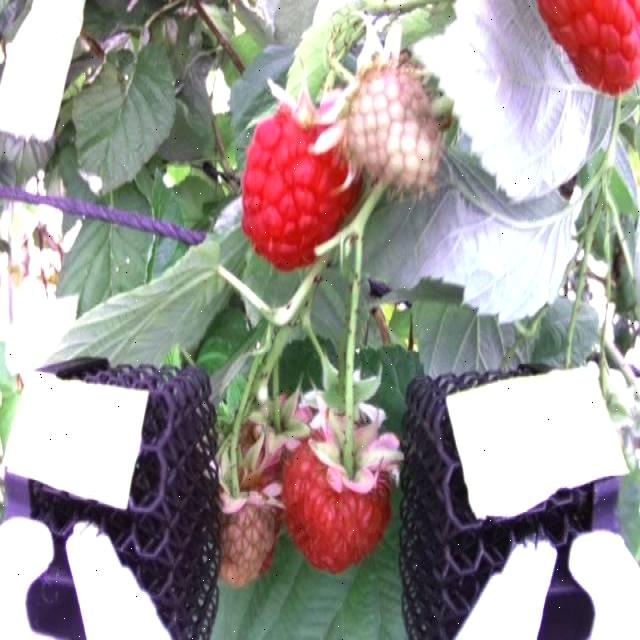Riped berries: (238, 93, 364, 270), (277, 408, 396, 574), (534, 0, 640, 97)
